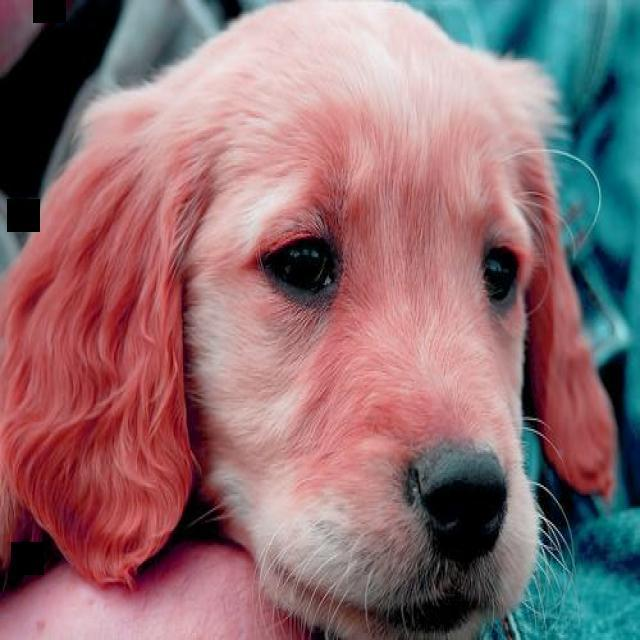puppy-dog: (1, 1, 621, 640)
